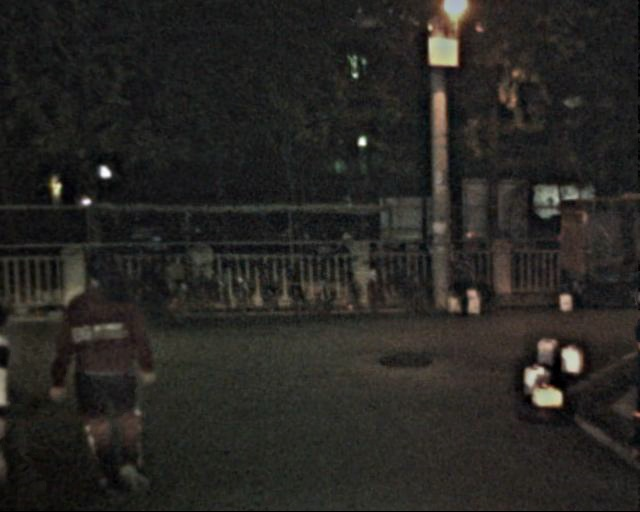person: (65, 243, 165, 502), (1, 287, 31, 493)
